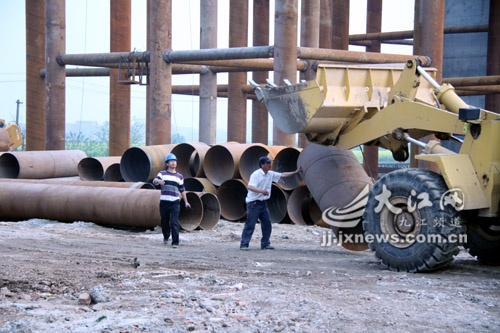blue: (163, 151, 178, 171), (259, 156, 272, 172)
